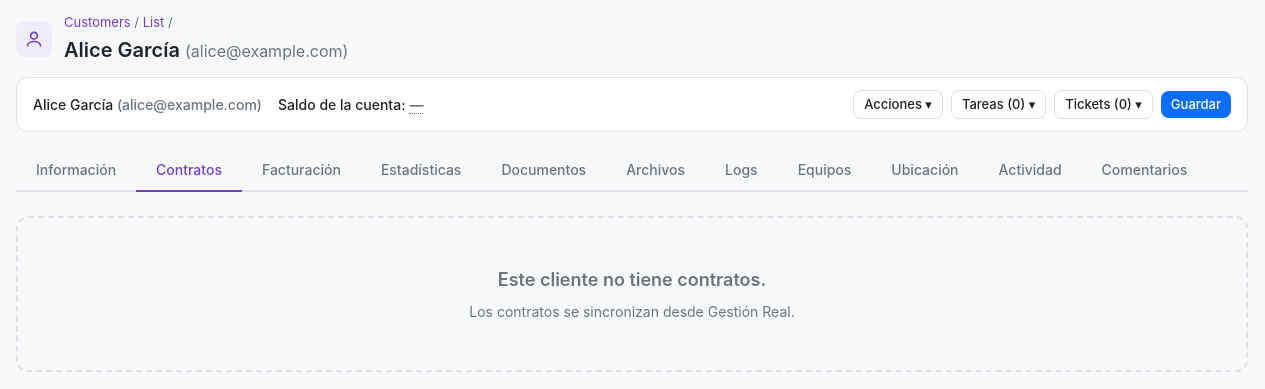
Test: CustomerDetailPage › hides "Enviar mensaje" when the user lacks messaging.read (review L1)
The width and height of the screenshot is (1265, 389).
Click the button "Acciones ▾".
click(898, 104)  # box [853, 90, 943, 119]
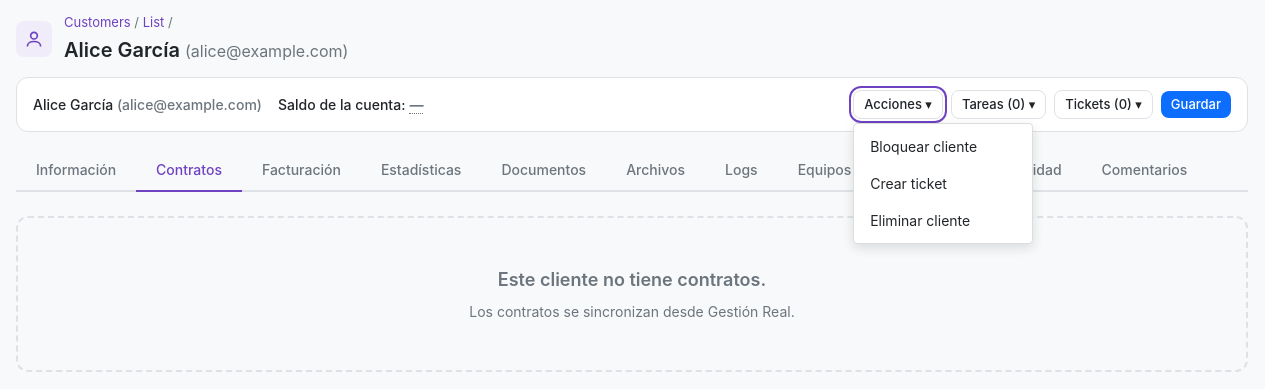
Check: the button "Bloquear cliente" is shown, box [854, 128, 1032, 165]
Check: the button "Crear ticket" is shown, box [854, 165, 1032, 202]
